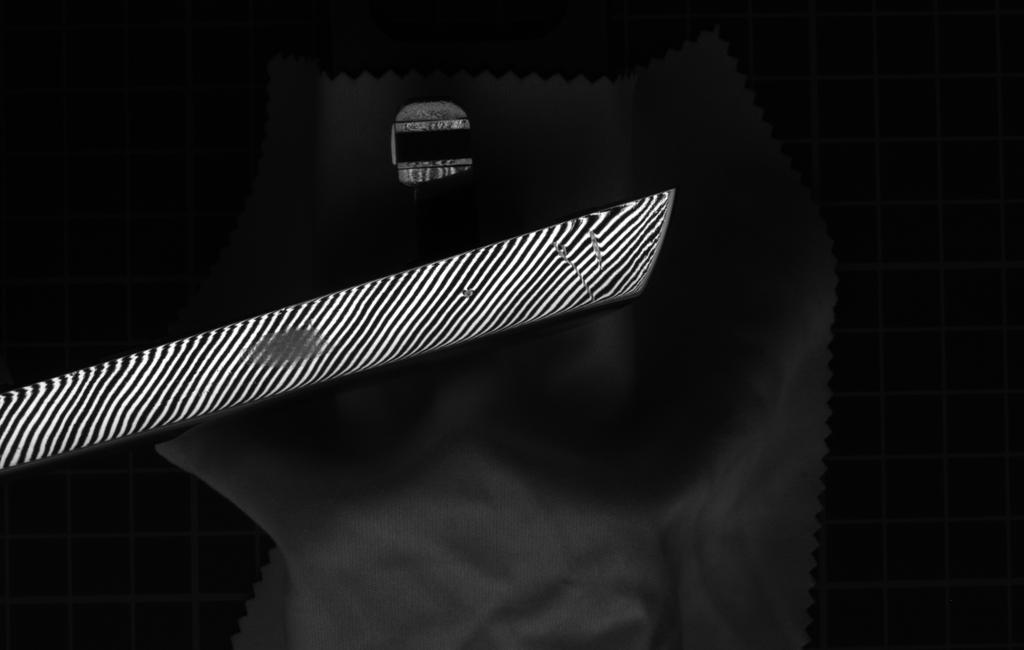Pierced: (458, 285, 485, 301)
Pitting: (232, 321, 341, 376)
Scratch: (547, 233, 599, 312), (582, 225, 607, 282)
